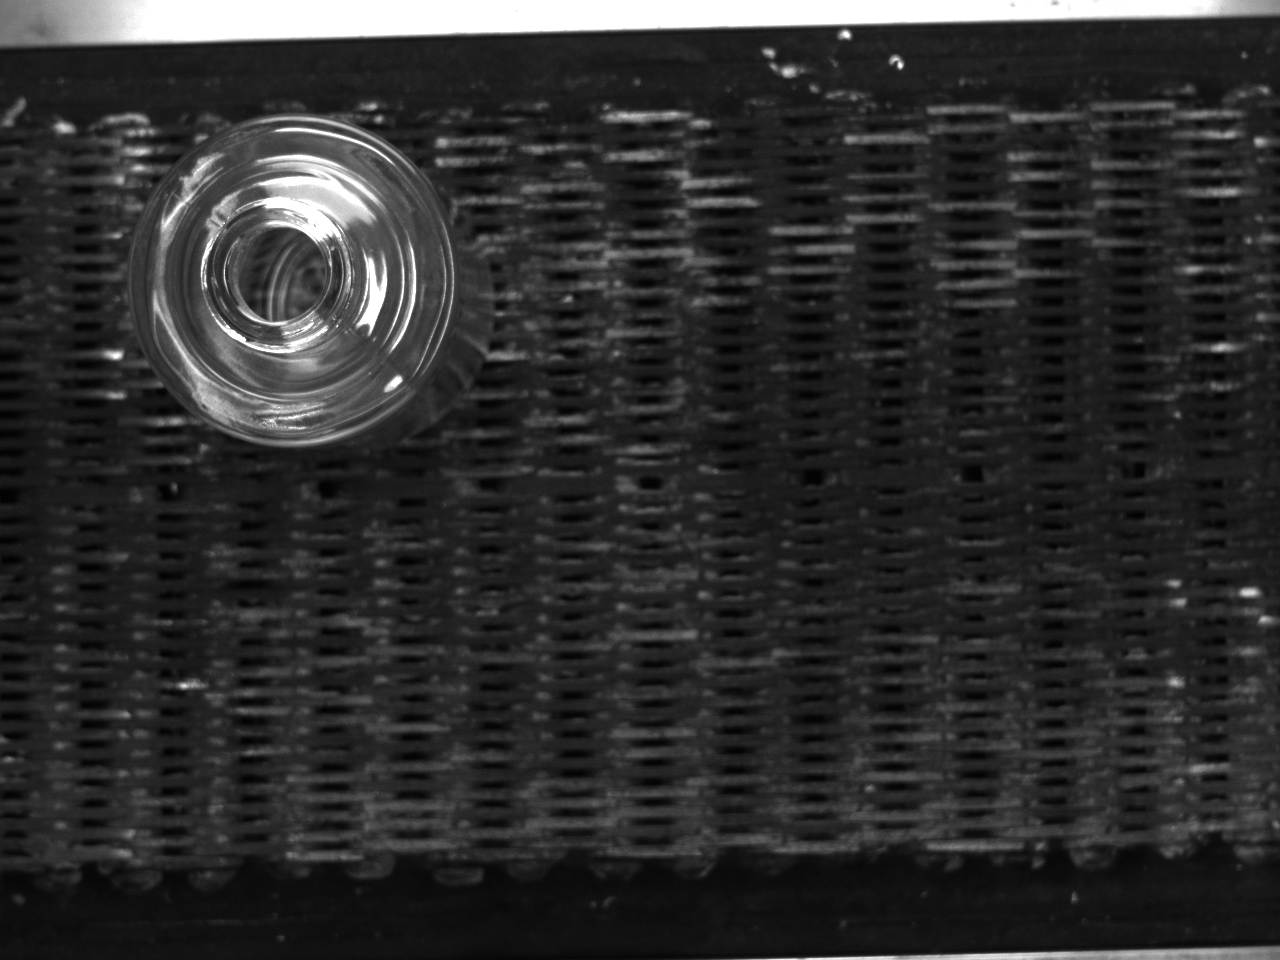bottleneck: (201, 196, 351, 353)
